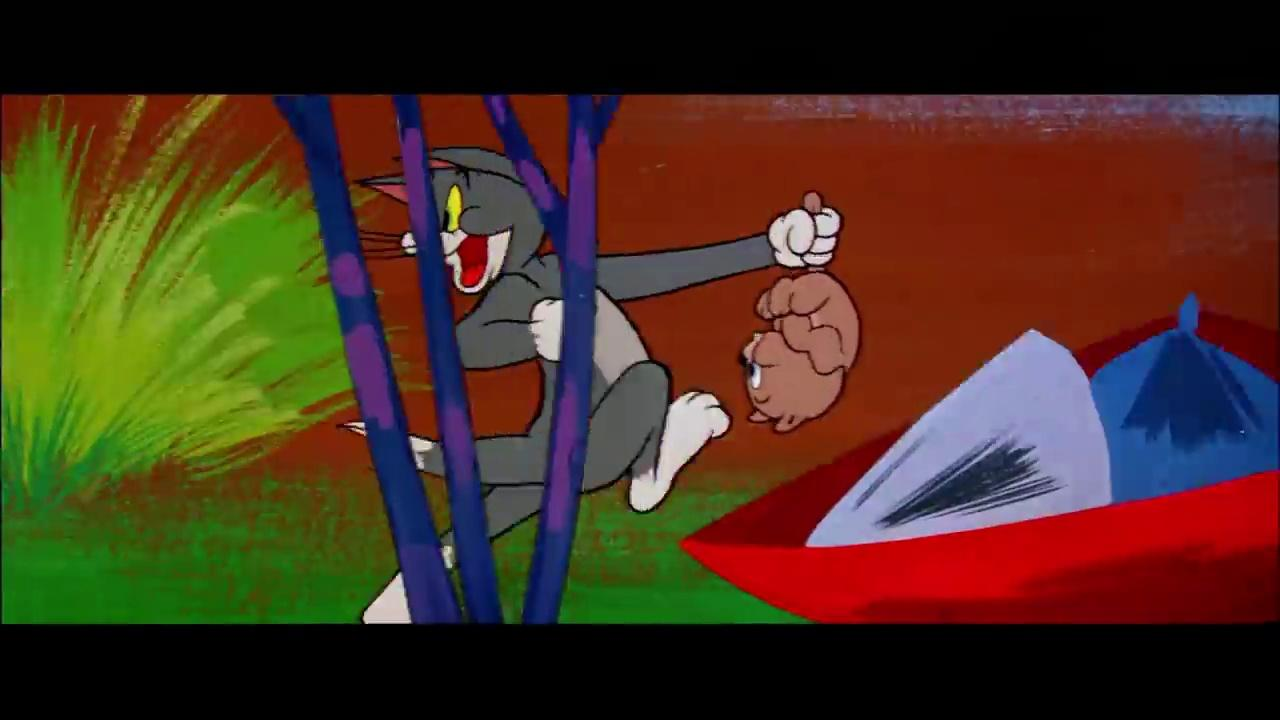Tom: (336, 142, 842, 624)
